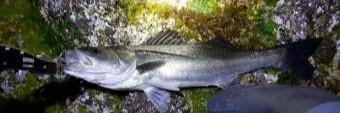fish: (61, 29, 321, 112)
